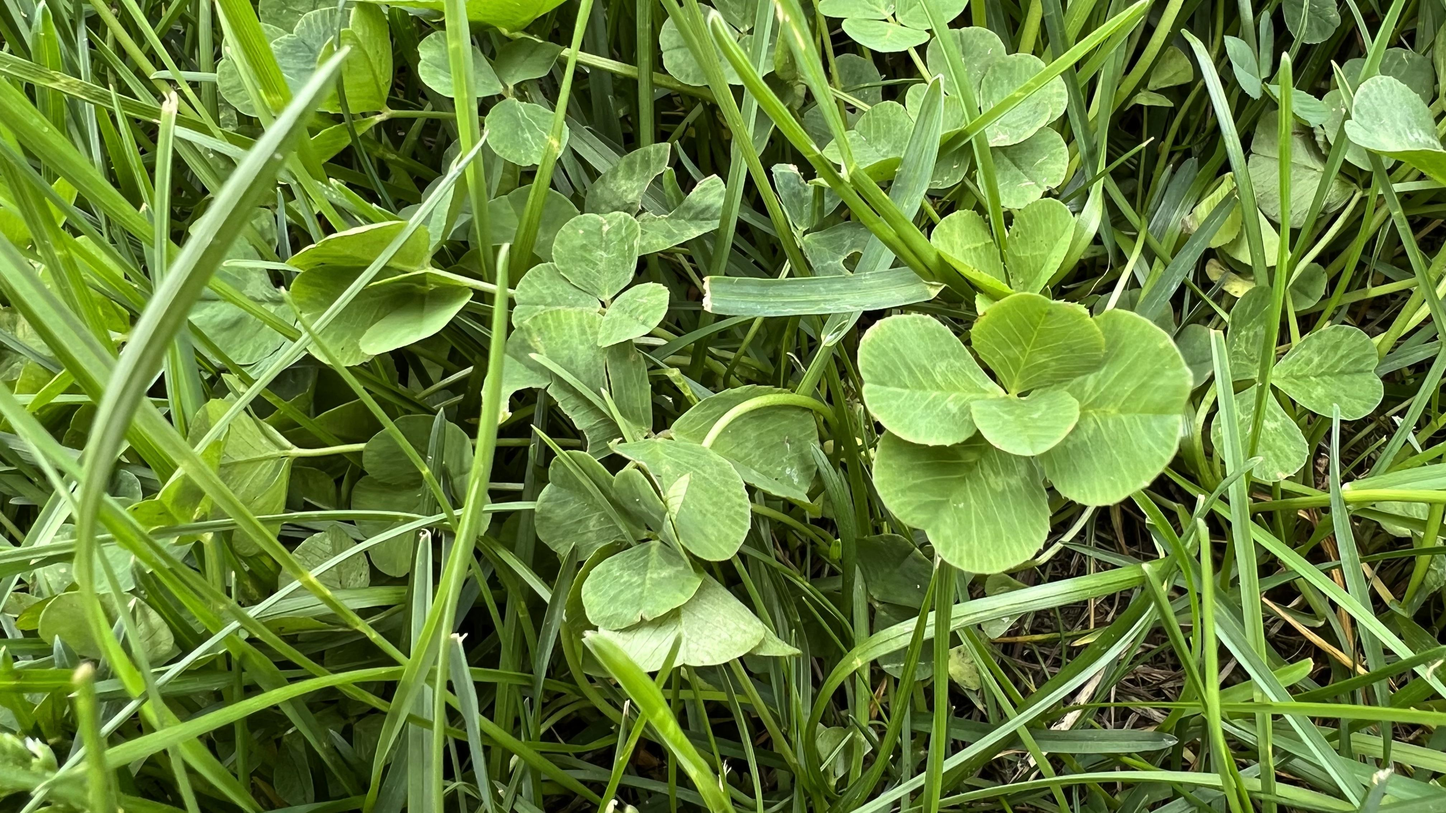5-Leaf-Clovers: (856, 301, 1192, 577)
